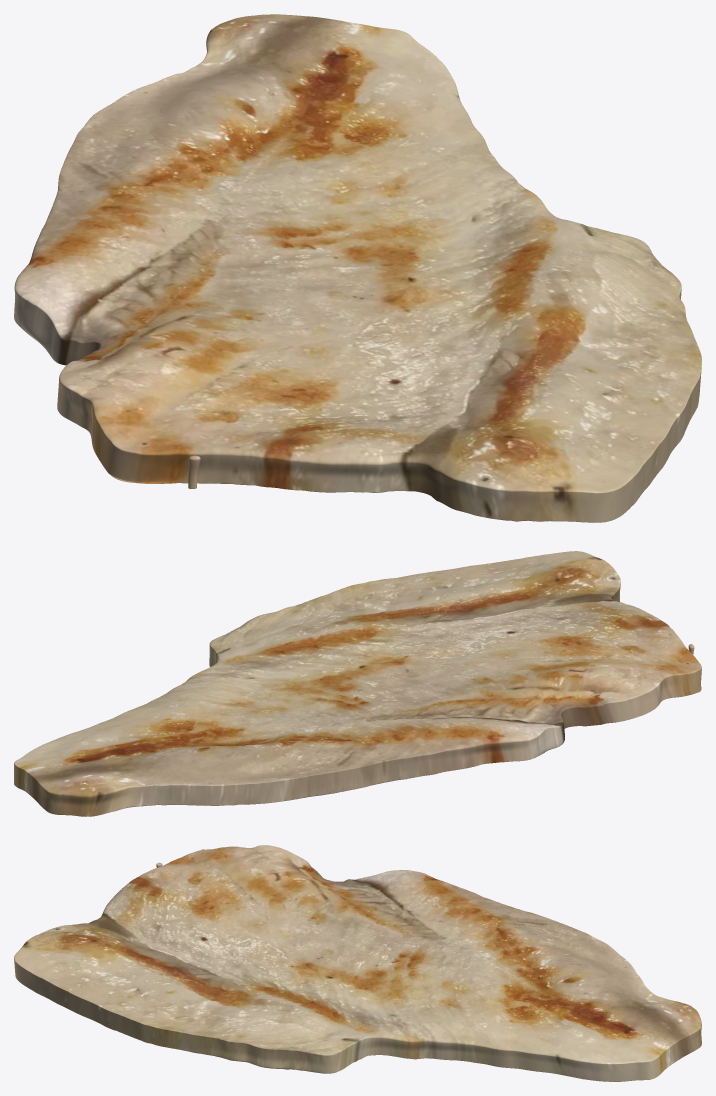
Rendered from meat.glb.
3 views of the same model, one above another, from view 1: azimuth 30°, elevation 25°; view 2: azimuth 150°, elevation 25°; view 3: azimuth 270°, elevation 25° (orthographic). The views are drawn at different scales.
Parts seen in each view (by area): view 1: fetta di pollo; view 2: fetta di pollo; view 3: fetta di pollo.
Part boxes in pixels (x1,y1,x2,y2): fetta di pollo: [14, 14, 701, 522]; fetta di pollo: [14, 551, 701, 816]; fetta di pollo: [14, 845, 701, 1081].
Bounding box in the file's own units: 1.23 × 0.1478 × 1.84.
Materials: 1 (1 with a texture image).
